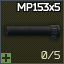MP-153 12ga 5-shell magazine extension: (0, 0, 64, 64)
